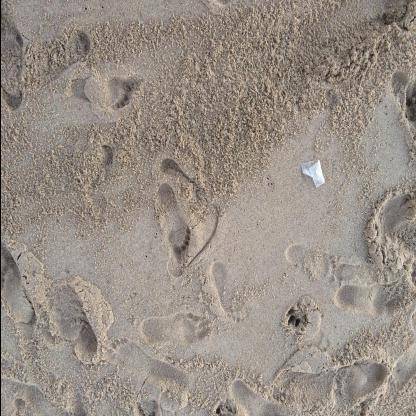plastik: (300, 161, 326, 189)
